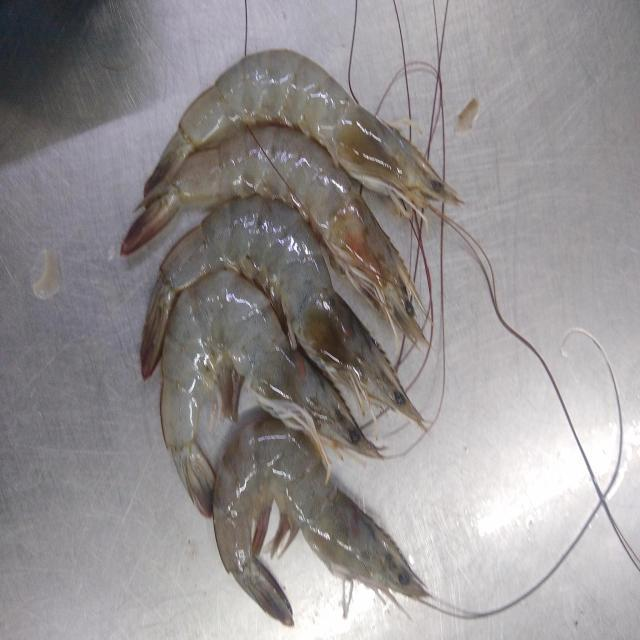shrimp: (120, 125, 427, 344), (140, 196, 424, 427), (160, 270, 381, 517), (144, 48, 462, 210), (213, 419, 428, 626)
